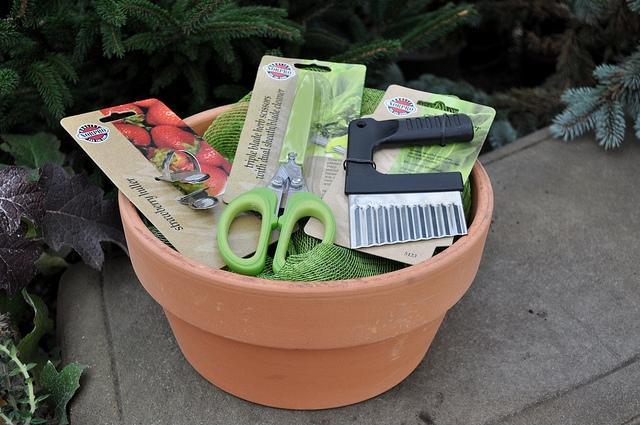strawberry: (170, 162, 228, 196), (150, 125, 200, 157), (100, 103, 146, 127), (146, 100, 188, 126), (150, 148, 189, 171), (113, 124, 151, 146), (132, 98, 159, 108), (222, 157, 233, 175), (144, 147, 154, 161)
